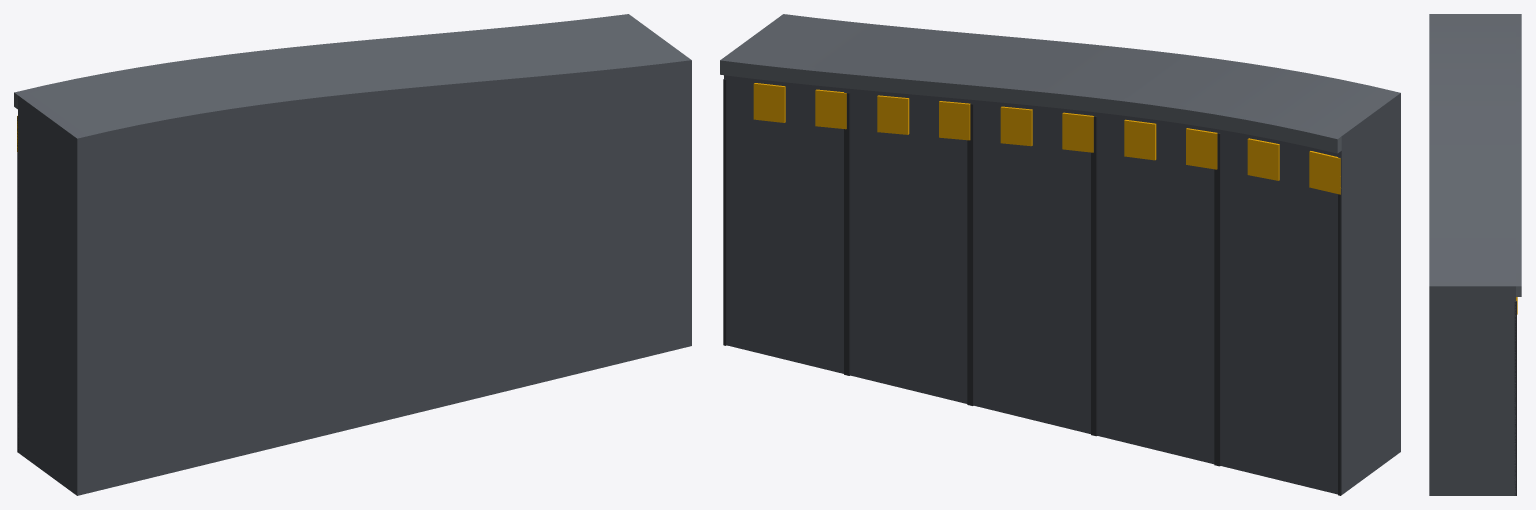
The picture shows the model from 3 angles, left to right: view 1: azimuth 30°, elevation 25°; view 2: azimuth 150°, elevation 25°; view 3: azimuth 270°, elevation 25°; orthographic projection. The views are drawn at different scales.
Parts seen in each view (by area): view 1: e0wf; view 2: e0wf; view 3: e0wf.
Boxes of the visible parts, x1,y1,x2,y2 form: e0wf: (14, 14, 691, 495); e0wf: (720, 14, 1400, 495); e0wf: (1429, 14, 1521, 495).
Bounding box in the file's own units: 9 × 5 × 1.6.
